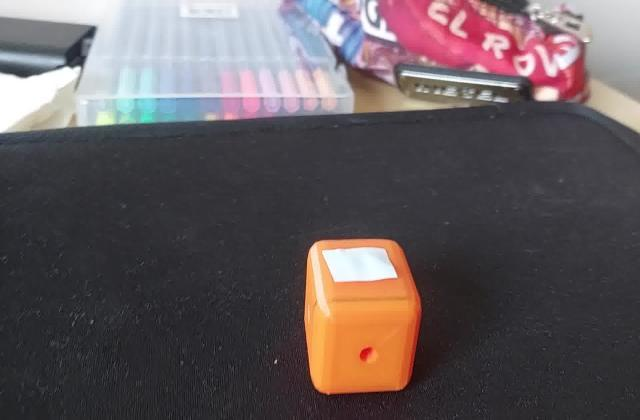cube: (300, 232, 426, 395)
white: (322, 246, 399, 291)
